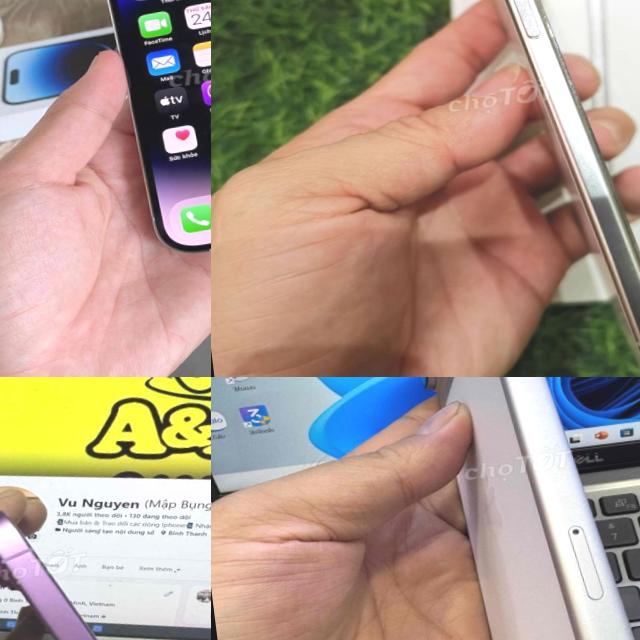gen_14: (84, 0, 211, 268)
gen_16: (0, 479, 176, 640)
gen_17: (411, 0, 640, 377), (423, 377, 634, 640)
